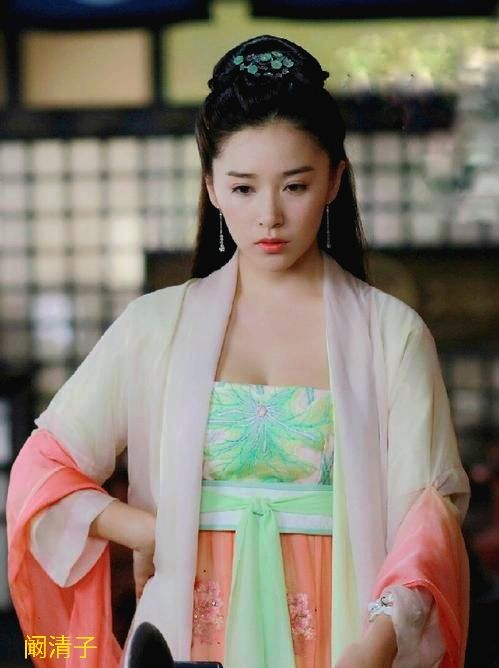person: (83, 10, 447, 649)
